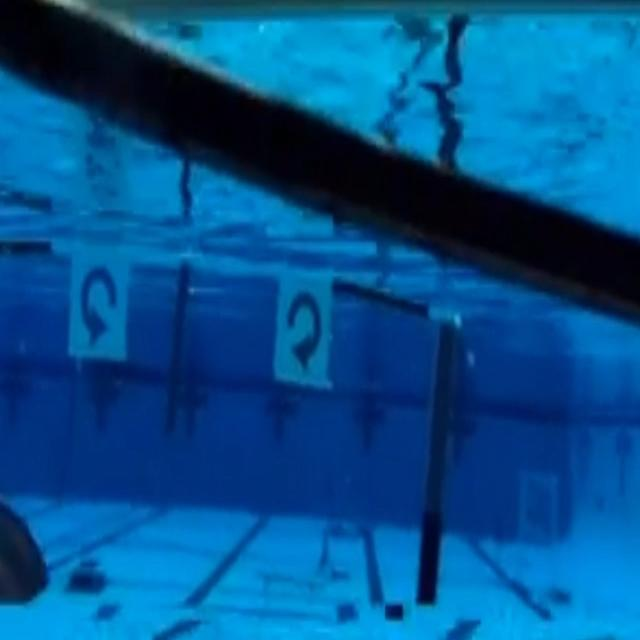Gate: (0, 227, 467, 608)
